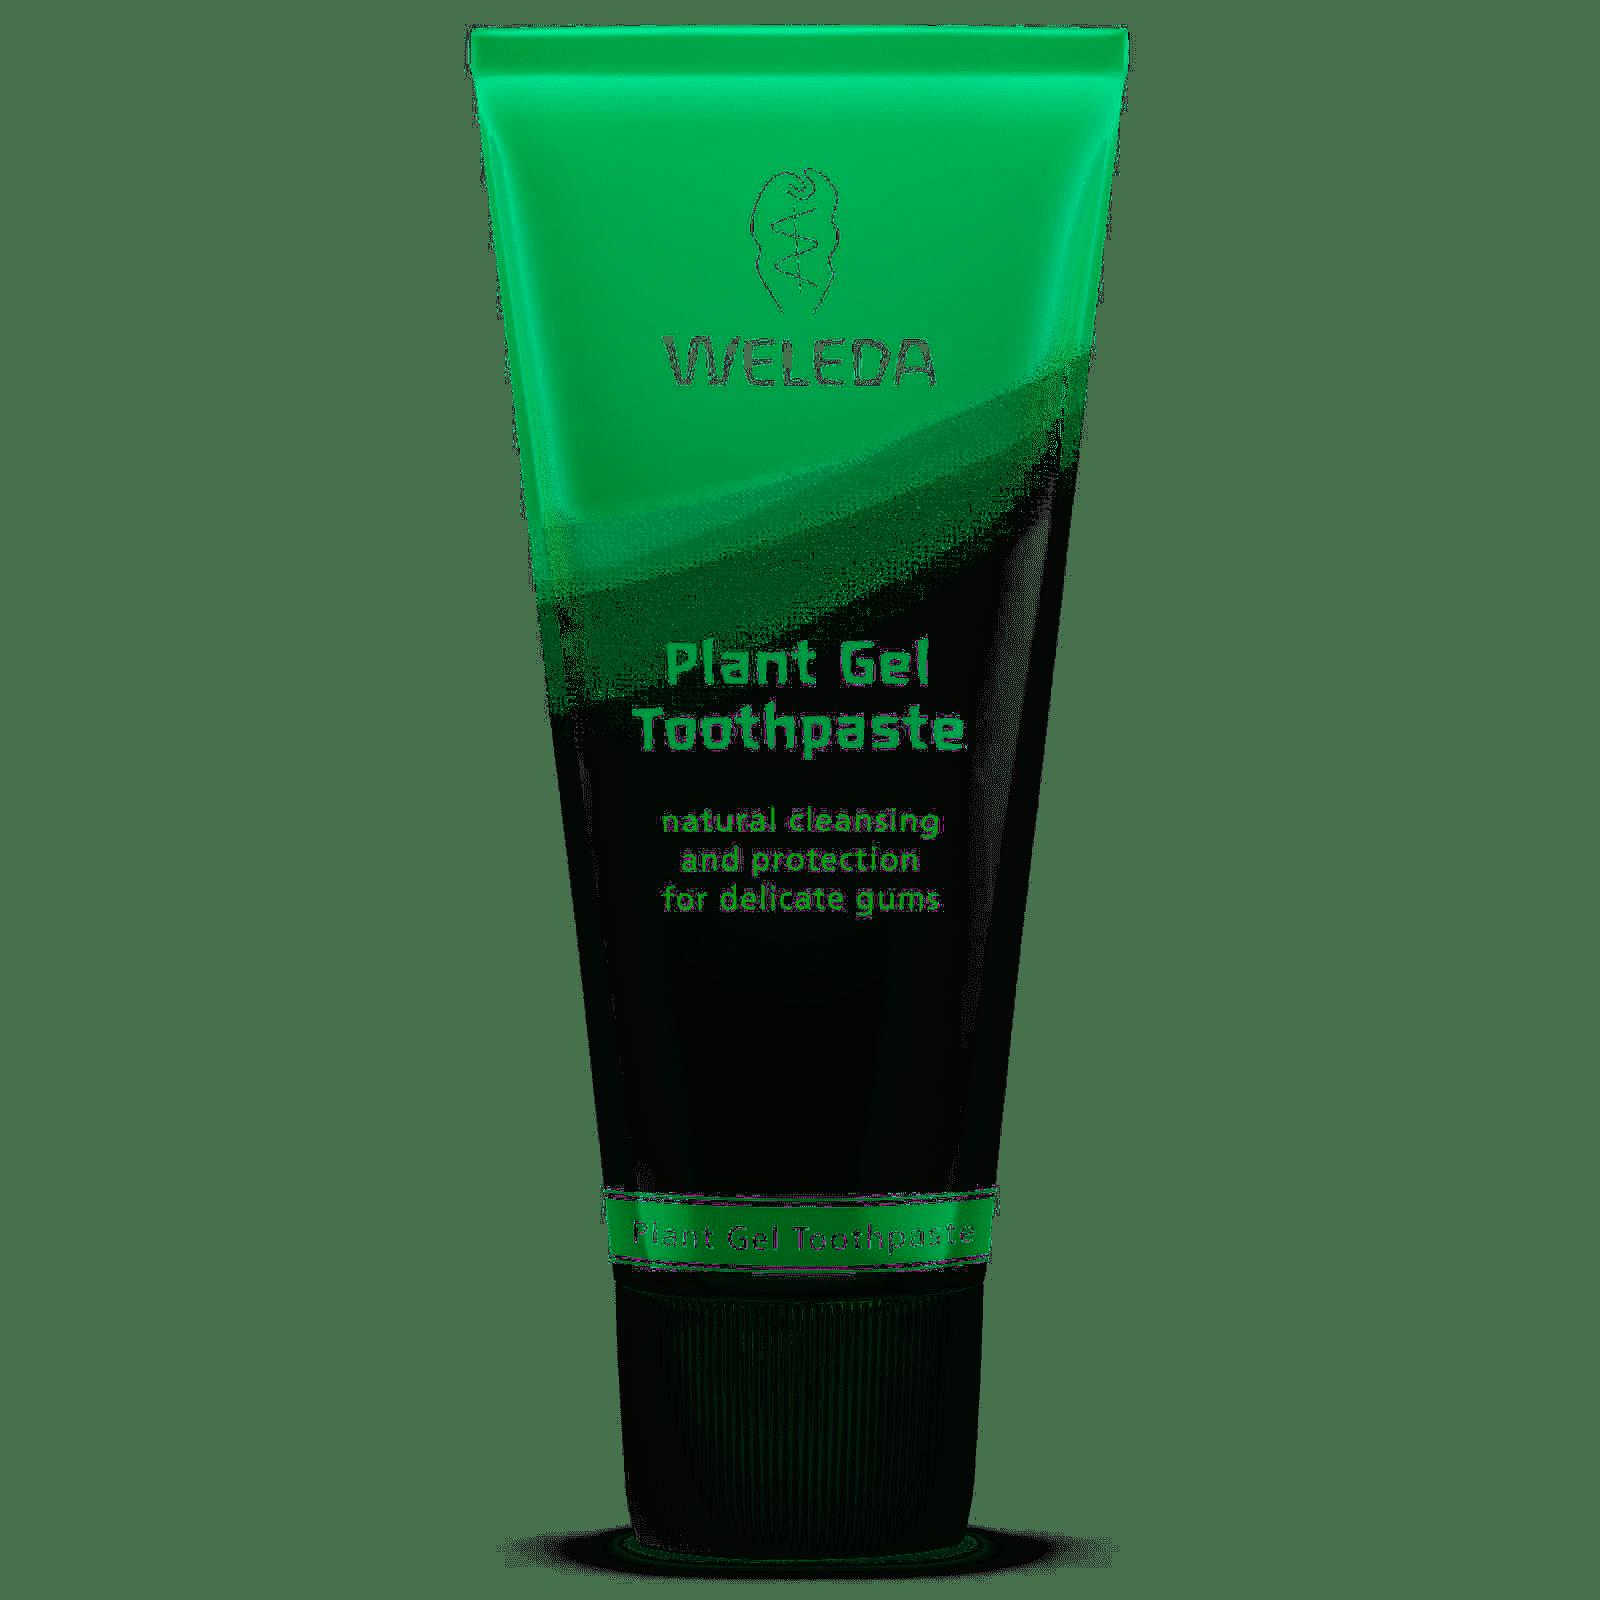toothpaste: (434, 0, 1136, 1588)
